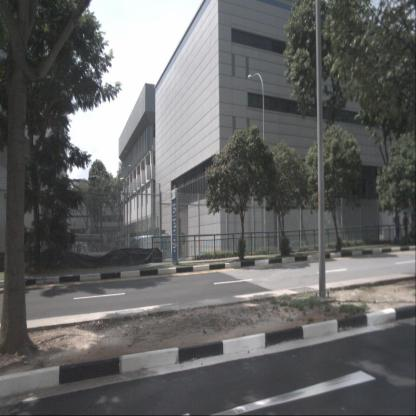human-pedestrian-adult: (392, 209, 401, 244), (403, 211, 411, 241)
